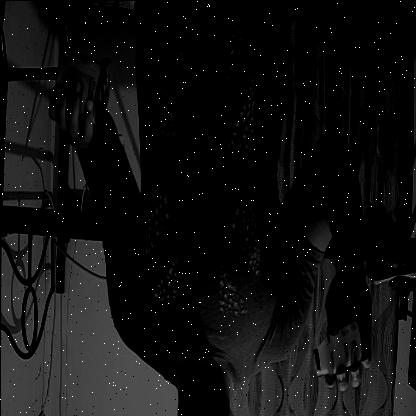Others: (300, 315, 364, 378)
